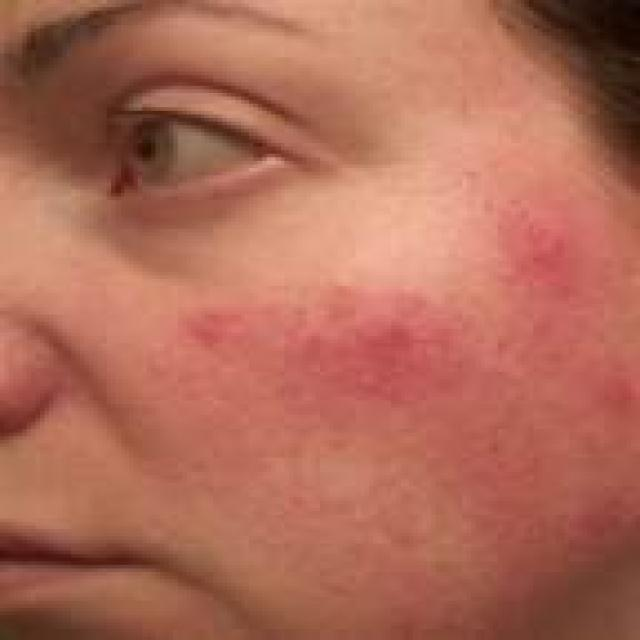Rosacea: (177, 296, 455, 415), (510, 204, 586, 314)
